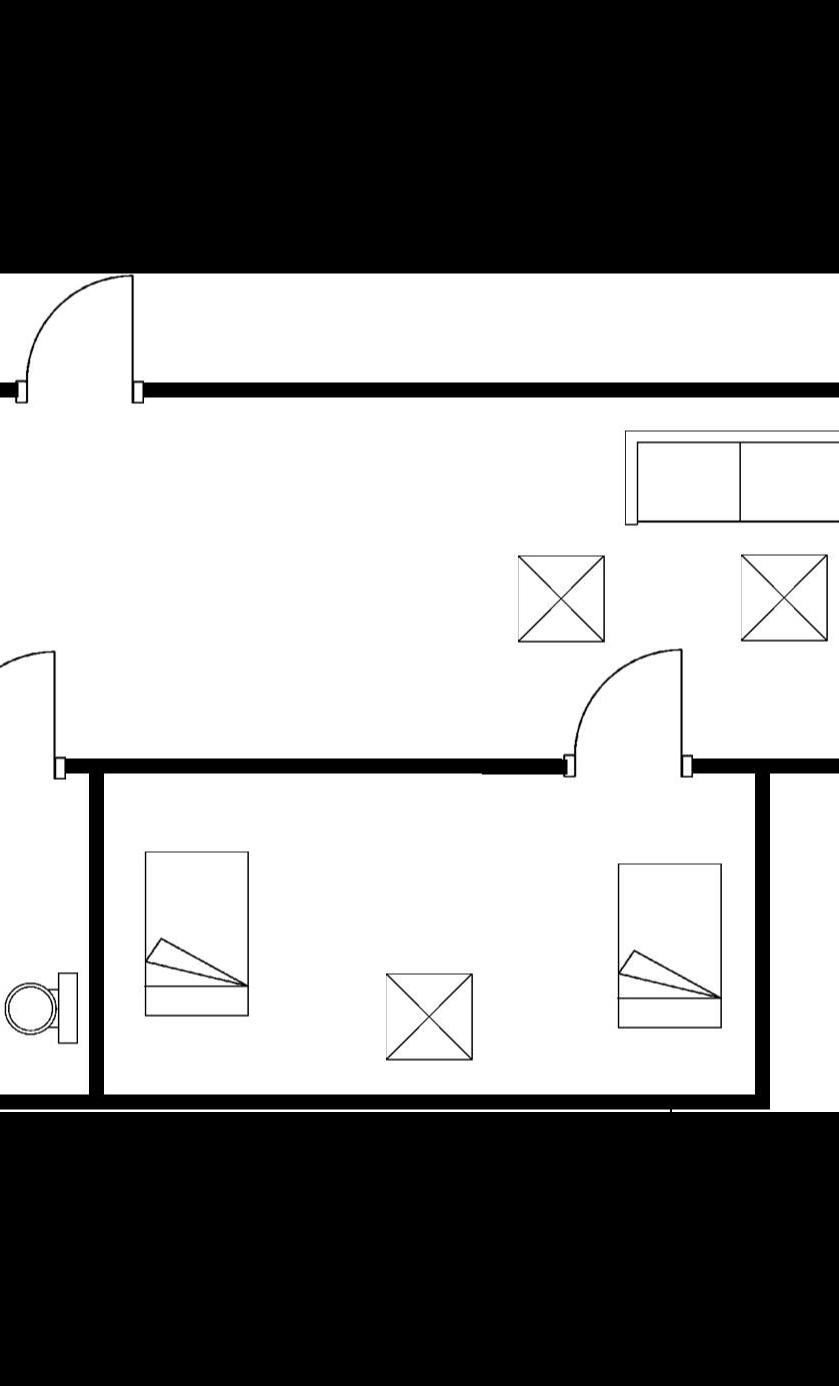bed: (610, 860, 732, 1036), (136, 846, 254, 1023)
sofa: (619, 425, 839, 533)
toilet: (0, 965, 83, 1049)
